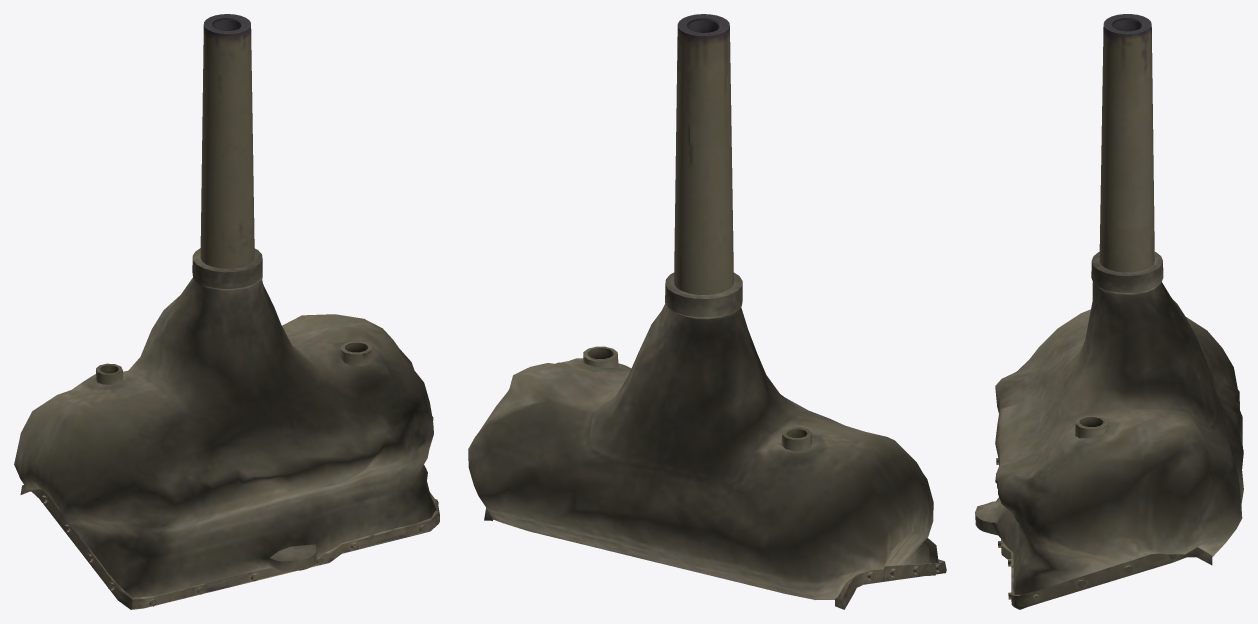
File: Gun_10.glb
3 renders of one model, left to right at view 1: azimuth 30°, elevation 25°; view 2: azimuth 150°, elevation 25°; view 3: azimuth 270°, elevation 25°, orthographic. The views are drawn at different scales.
Visible parts, largest first — view 1: set_0_group_0; view 2: set_0_group_0; view 3: set_0_group_0.
Part boxes in pixels (x1,y1,x2,y2): set_0_group_0: (14,14,439,609); set_0_group_0: (468,14,946,609); set_0_group_0: (975,14,1243,609).
Bounding box in the file's own units: 1.51 × 1.96 × 0.929.
1 material, 1 textured.
